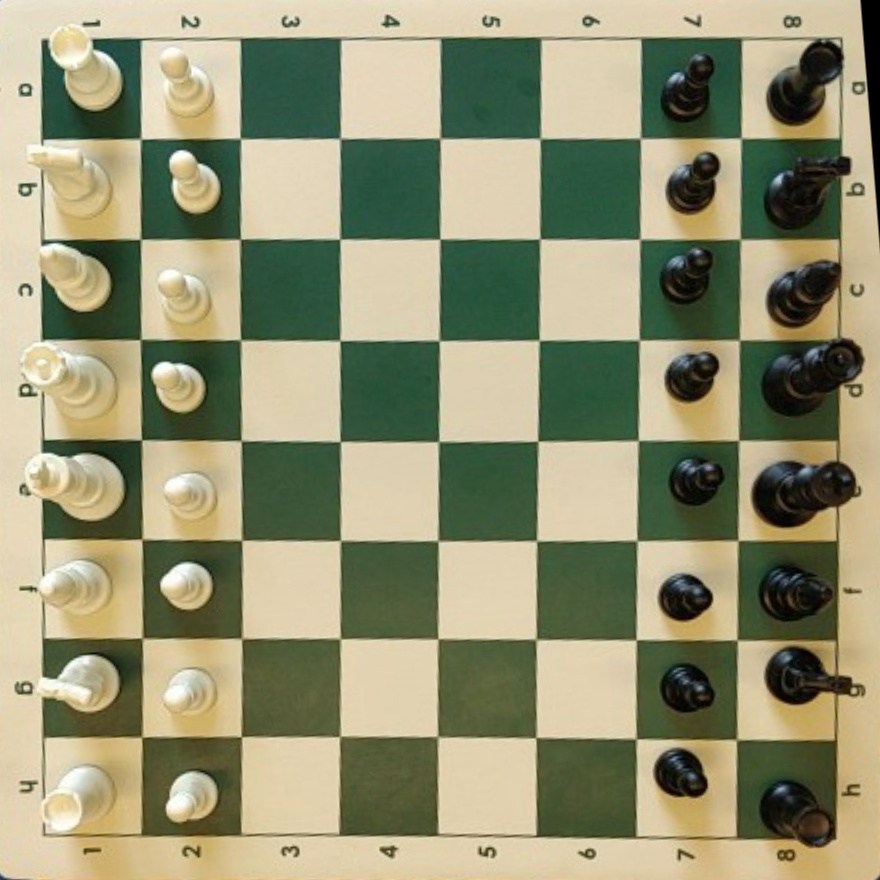black-bishop: (768, 261, 841, 326), (760, 564, 833, 621)
black-king: (753, 460, 858, 527)
black-knight: (765, 154, 851, 227), (766, 648, 865, 704)
black-pawn: (663, 52, 714, 120), (662, 260, 718, 320), (667, 152, 721, 212), (660, 663, 715, 713), (665, 352, 720, 401), (654, 749, 708, 798), (670, 457, 724, 504), (660, 573, 713, 620)
black-queen: (763, 340, 864, 415)
black-rook: (768, 39, 843, 124), (760, 779, 834, 847)
white-bishop: (37, 559, 111, 613), (62, 260, 118, 320)
white-king: (21, 451, 124, 521)
white-knight: (23, 142, 112, 217), (62, 660, 118, 720)
white-pawn: (160, 50, 213, 117), (167, 149, 221, 214), (164, 770, 218, 824), (150, 360, 205, 413), (157, 268, 209, 323), (163, 471, 216, 521), (159, 561, 213, 610), (163, 667, 215, 714)
white-queen: (19, 345, 117, 418)
white-rook: (49, 27, 123, 112), (41, 764, 114, 835)
